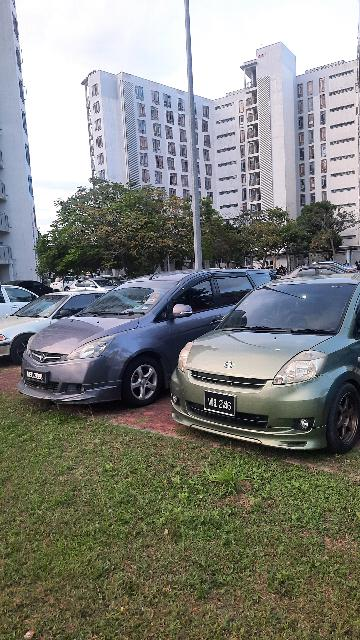License_Plate: (203, 390, 242, 420), (22, 367, 51, 386)
car: (19, 266, 275, 414), (169, 278, 360, 456)
